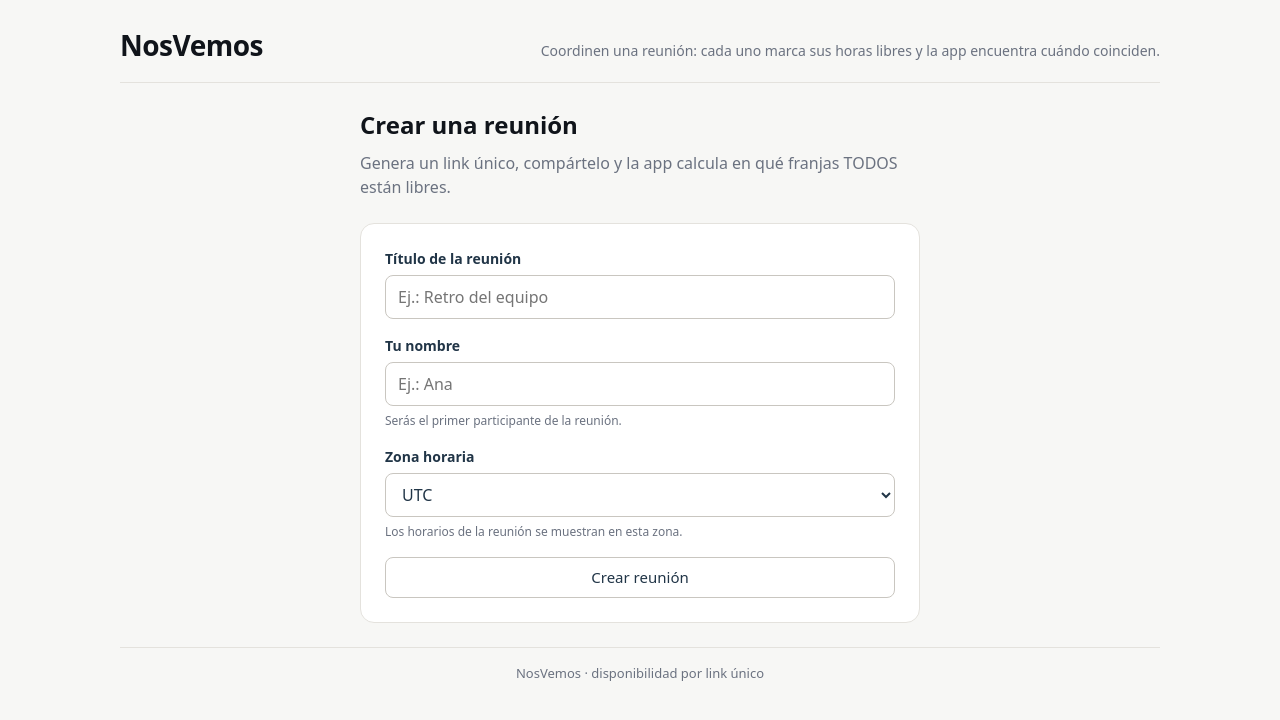
Test: flujo crear reunión › valida el formulario: exige título y nombre
The image size is (1280, 720).
Click the button "Crear reunión" at (640, 577), box [385, 557, 895, 598]
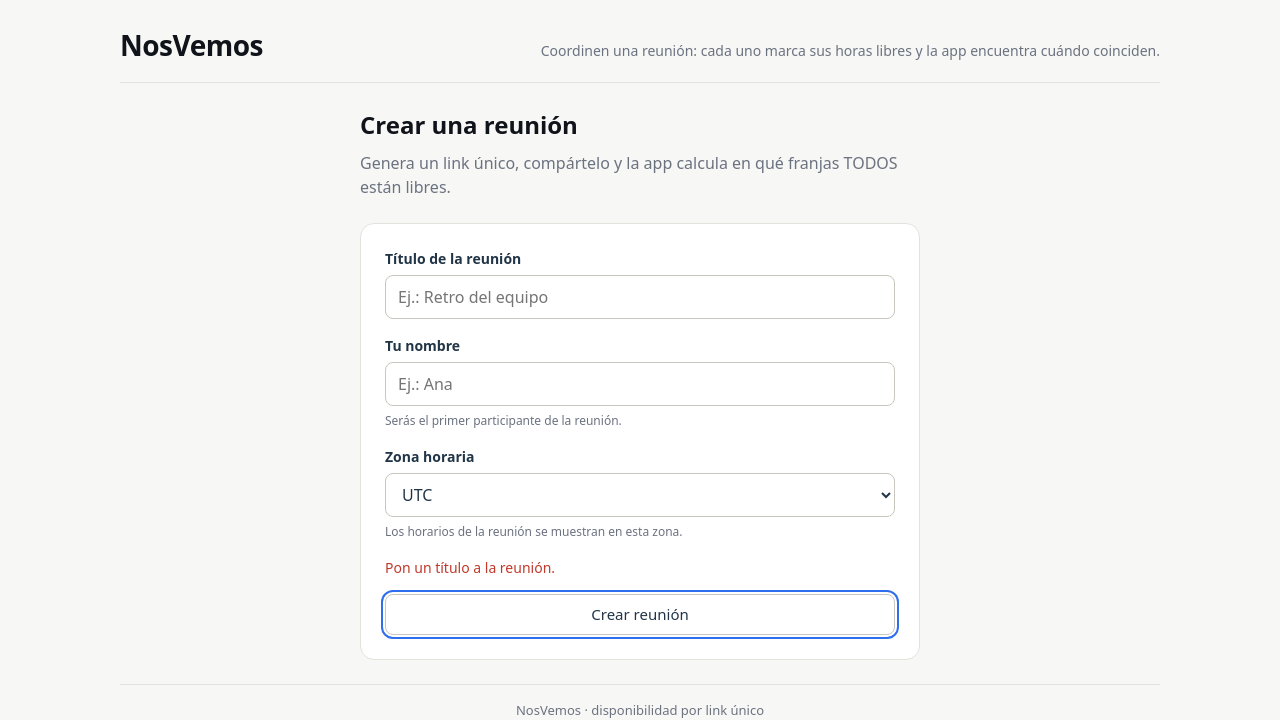
Expected: the text "Pon un título a la reunión." is shown, [385, 558, 555, 577]
Type "Demo" into the field labelled "Título de la reunión" at (640, 297), box [385, 275, 895, 319]
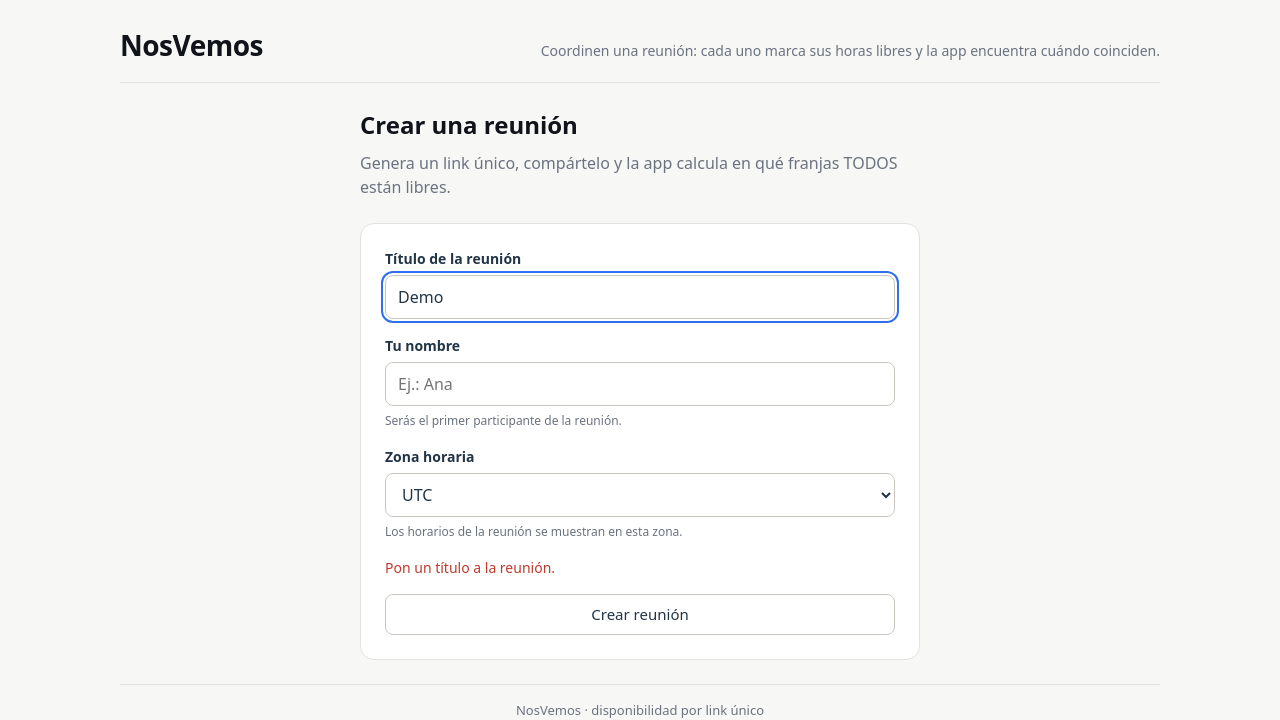
Click the button "Crear reunión" at (640, 614), box [385, 594, 895, 634]
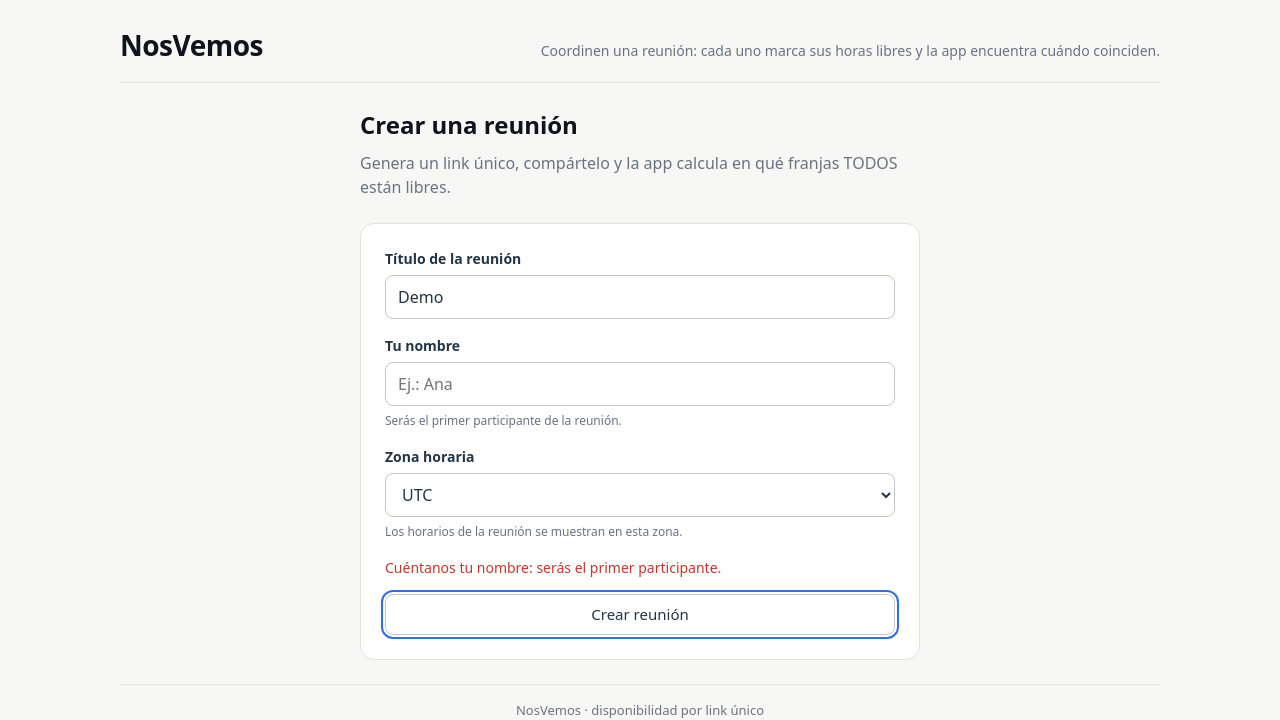
Expected: the message shows "serás el primer participante", [385, 558, 721, 577]
